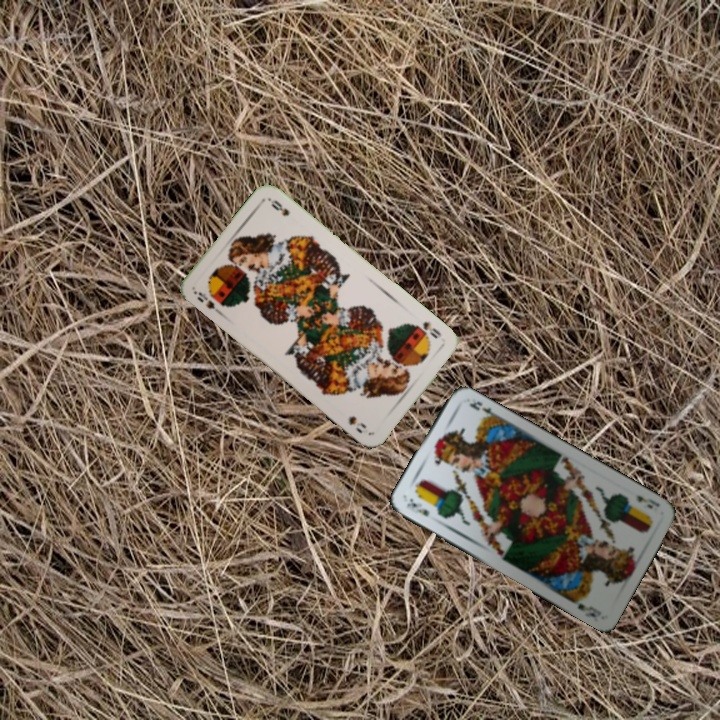EK: (403, 496, 432, 519), (632, 491, 662, 511)
SO: (193, 288, 225, 317), (418, 317, 444, 341)
